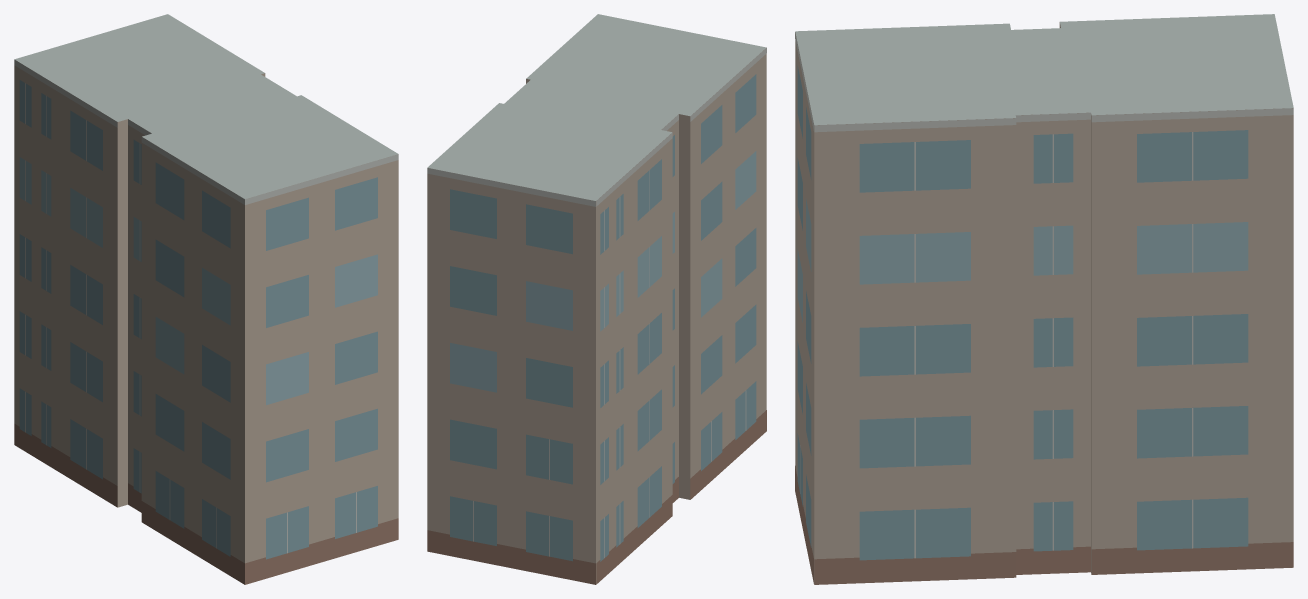
Rendered from survey-upis-32758974.glb.
3 renders of one model, left to right at view 1: azimuth 30°, elevation 25°; view 2: azimuth 150°, elevation 25°; view 3: azimuth 270°, elevation 25°, orthographic. The views are drawn at different scales.
Parts seen in each view (by area): view 1: survey-upis-32758974.tmp; view 2: survey-upis-32758974.tmp; view 3: survey-upis-32758974.tmp.
Boxes of the visible parts, x1=… form: survey-upis-32758974.tmp: x1=14, y1=14, x2=398, y2=584; survey-upis-32758974.tmp: x1=427, y1=14, x2=766, y2=584; survey-upis-32758974.tmp: x1=795, y1=14, x2=1293, y2=584.
Bounding box in the file's own units: 8.29 × 15.95 × 15.69.
